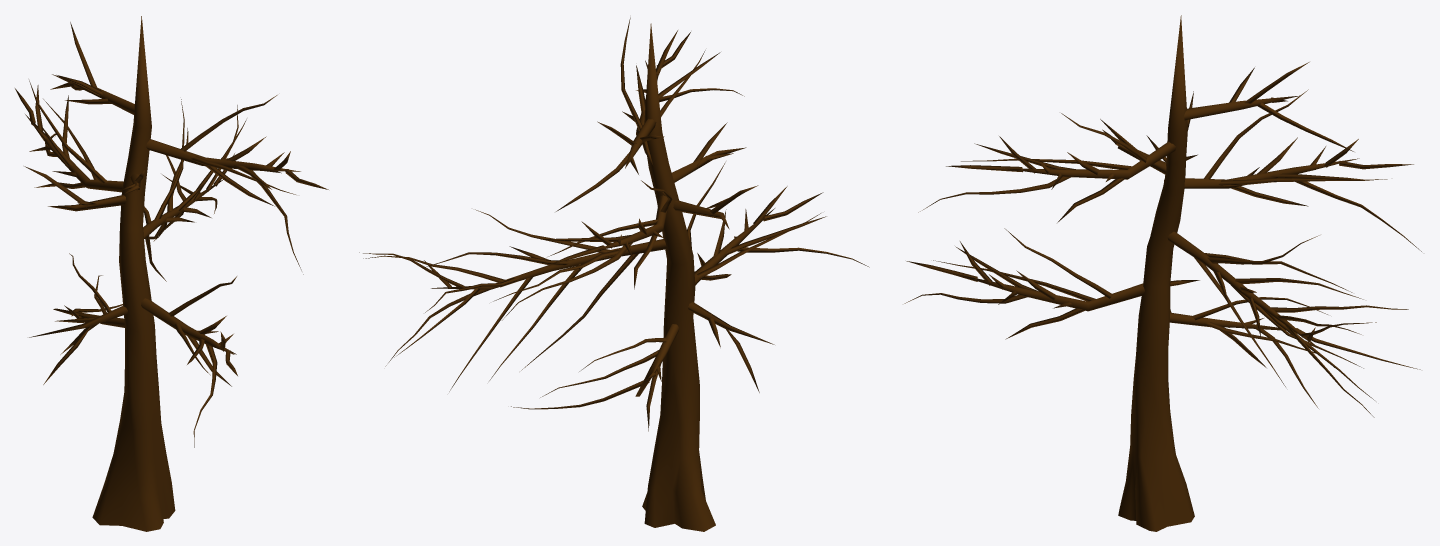
The model's file is Tree1.fbx.
The picture shows the model from 3 angles, left to right: view 1: azimuth 30°, elevation 25°; view 2: azimuth 150°, elevation 25°; view 3: azimuth 270°, elevation 25°; orthographic projection. The views are drawn at different scales.
Parts seen in each view (by area): view 1: Foliage001; view 2: Foliage001; view 3: Foliage001.
Part boxes in pixels (x1,y1,x2,y2): Foliage001: (15, 16, 328, 531); Foliage001: (359, 17, 869, 531); Foliage001: (904, 15, 1421, 531).
Bounding box in the file's own units: 193 × 287 × 269.
